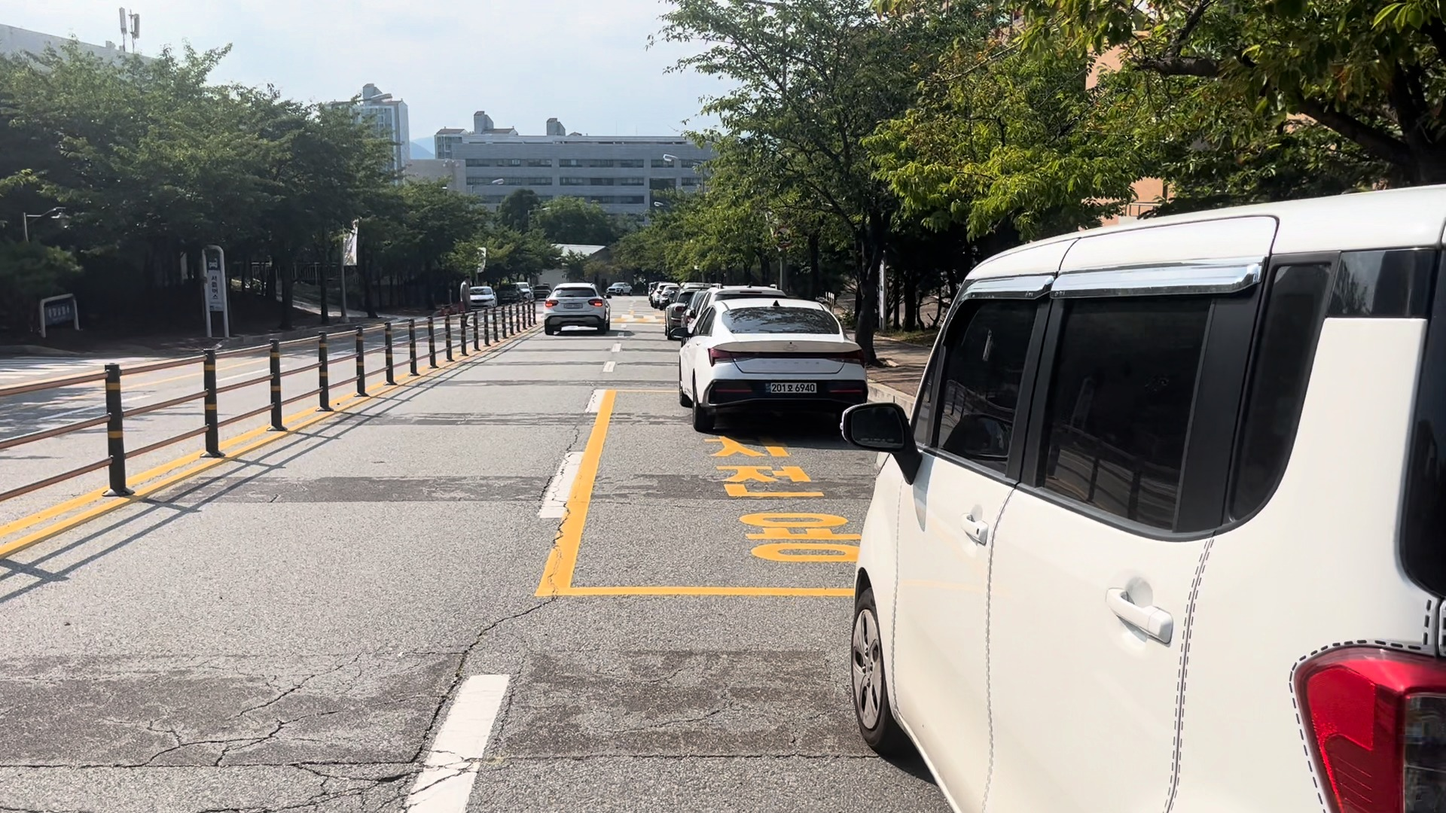door_handle: (1107, 589, 1172, 644), (961, 513, 989, 545)
side_mirror: (840, 403, 921, 483)
tail_light: (1295, 647, 1445, 812), (708, 349, 755, 365), (824, 350, 864, 364), (545, 298, 557, 307), (589, 300, 604, 306)
